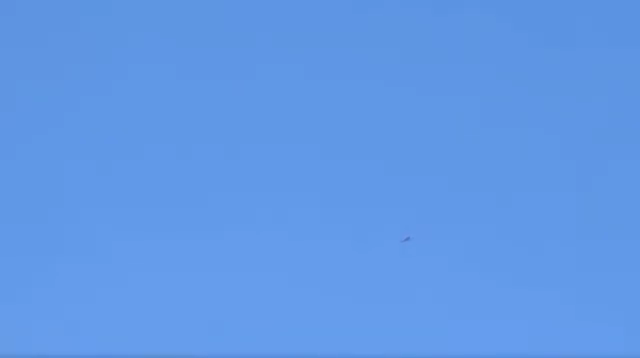shahed: (400, 235, 412, 244)
